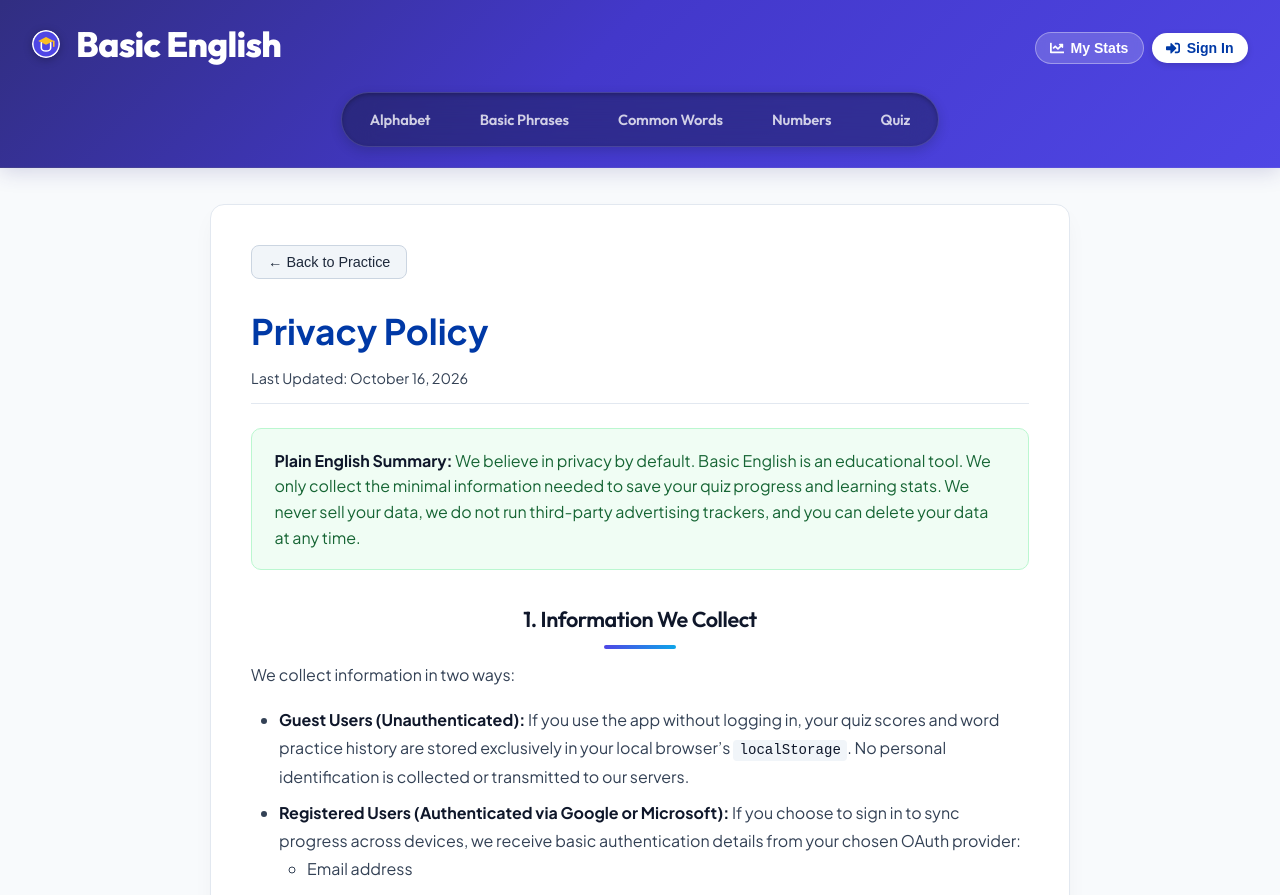
App › navigates back to practice from Privacy Policy
This screenshot has width=1280, height=895.
Click the button with aria-label "back to practice lessons".
click(329, 262)  # box [251,246,407,280]
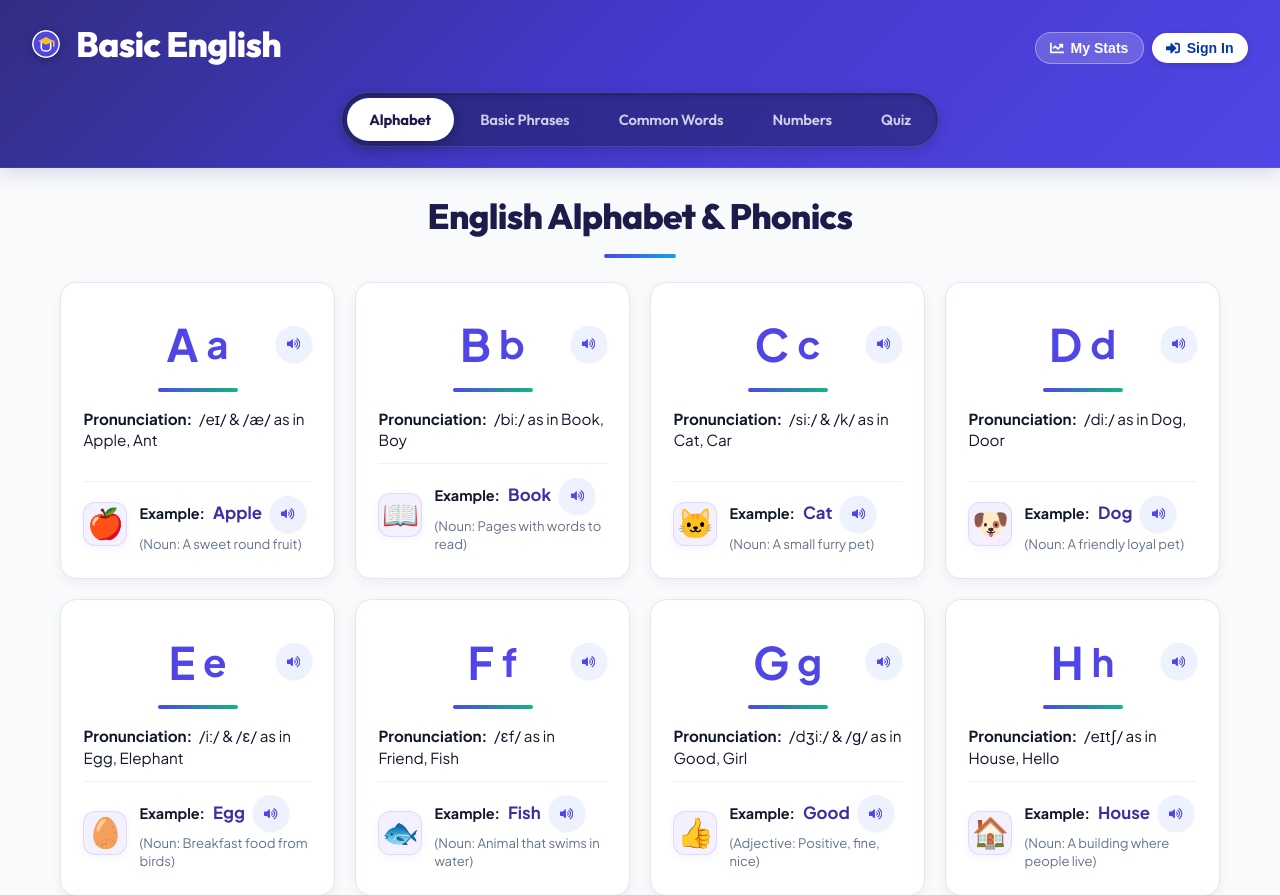
Expected: the heading "English Alphabet & Phonics" is shown, [428,194,852,238]
